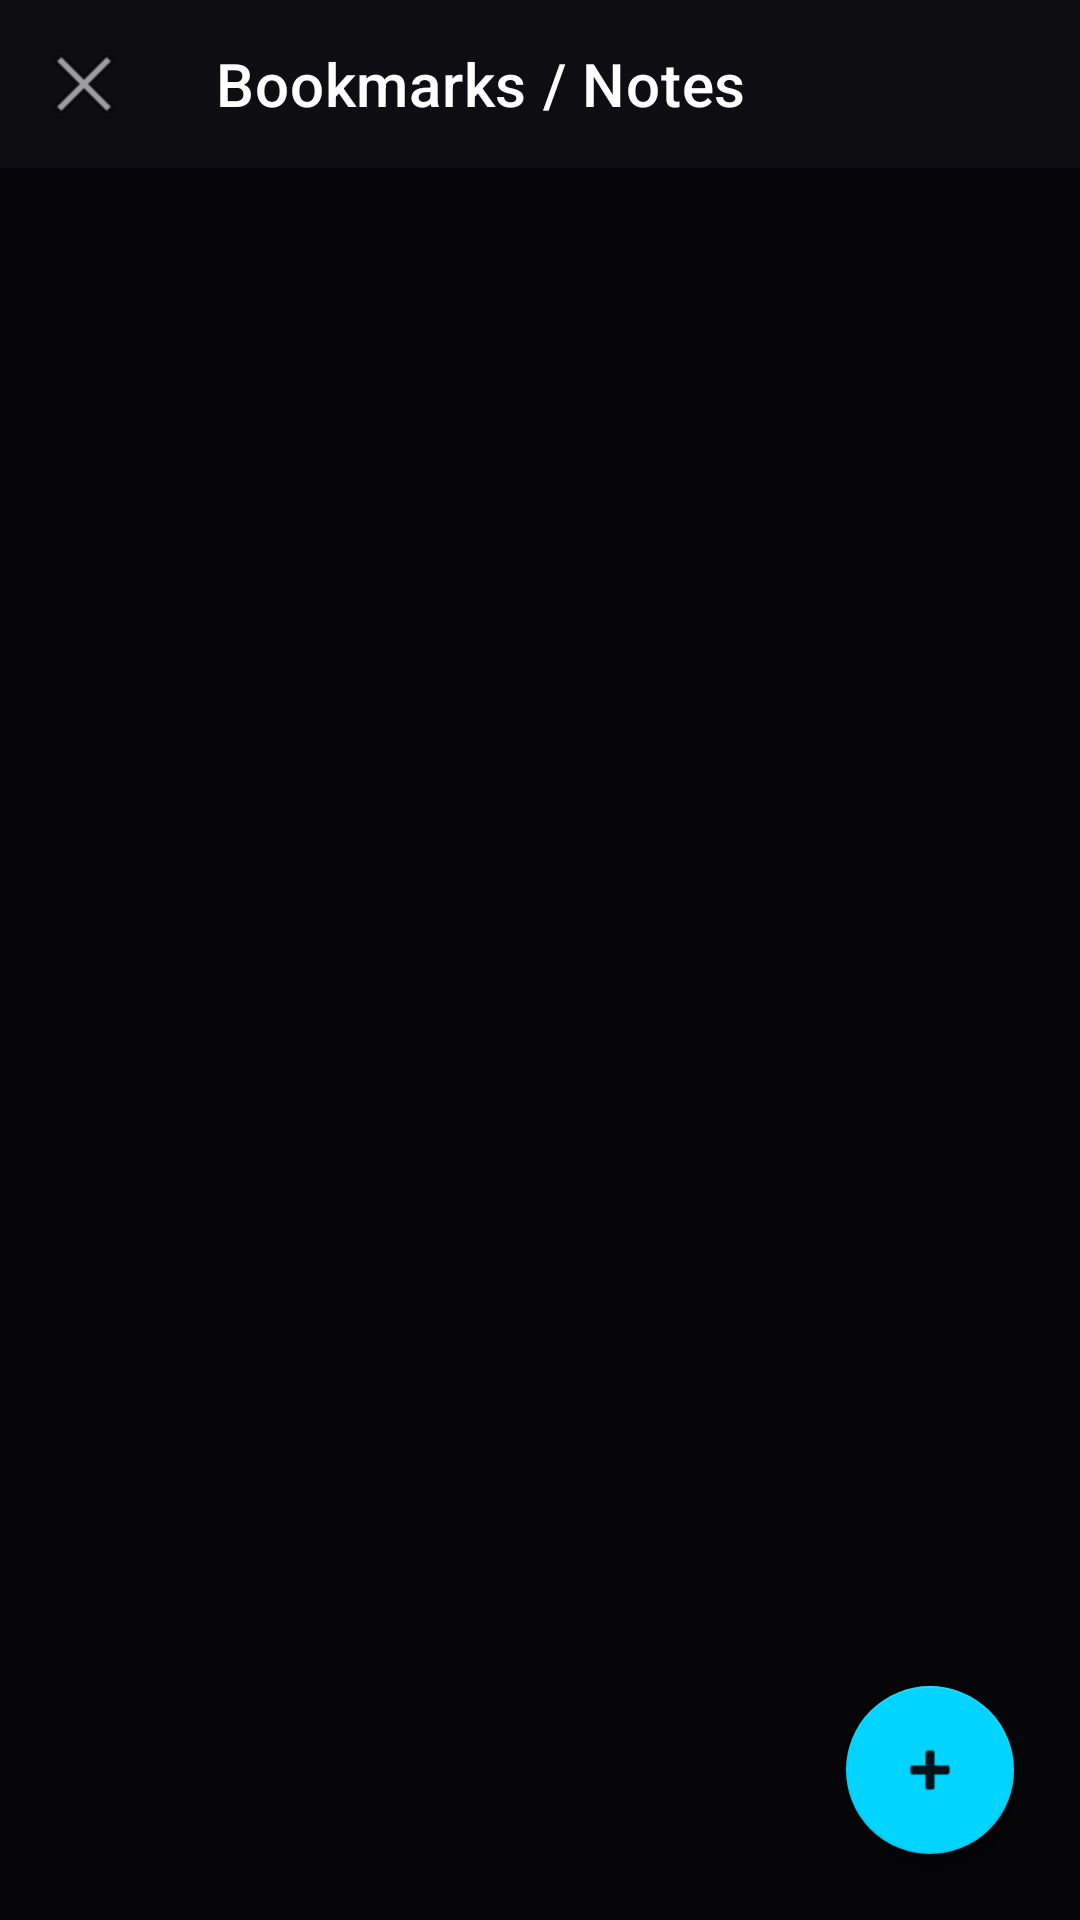

Icons on this 1080px x 1920px Android screen, each with the point to tap as point (x, y):
add: point (930, 1770)
